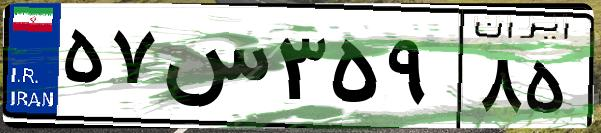3: (270, 28, 330, 110)
5: (330, 28, 385, 110), (57, 26, 110, 100), (525, 38, 570, 115)
7: (110, 28, 158, 98)
8: (475, 38, 525, 113)
9: (385, 28, 445, 110)
س: (158, 20, 270, 120)
